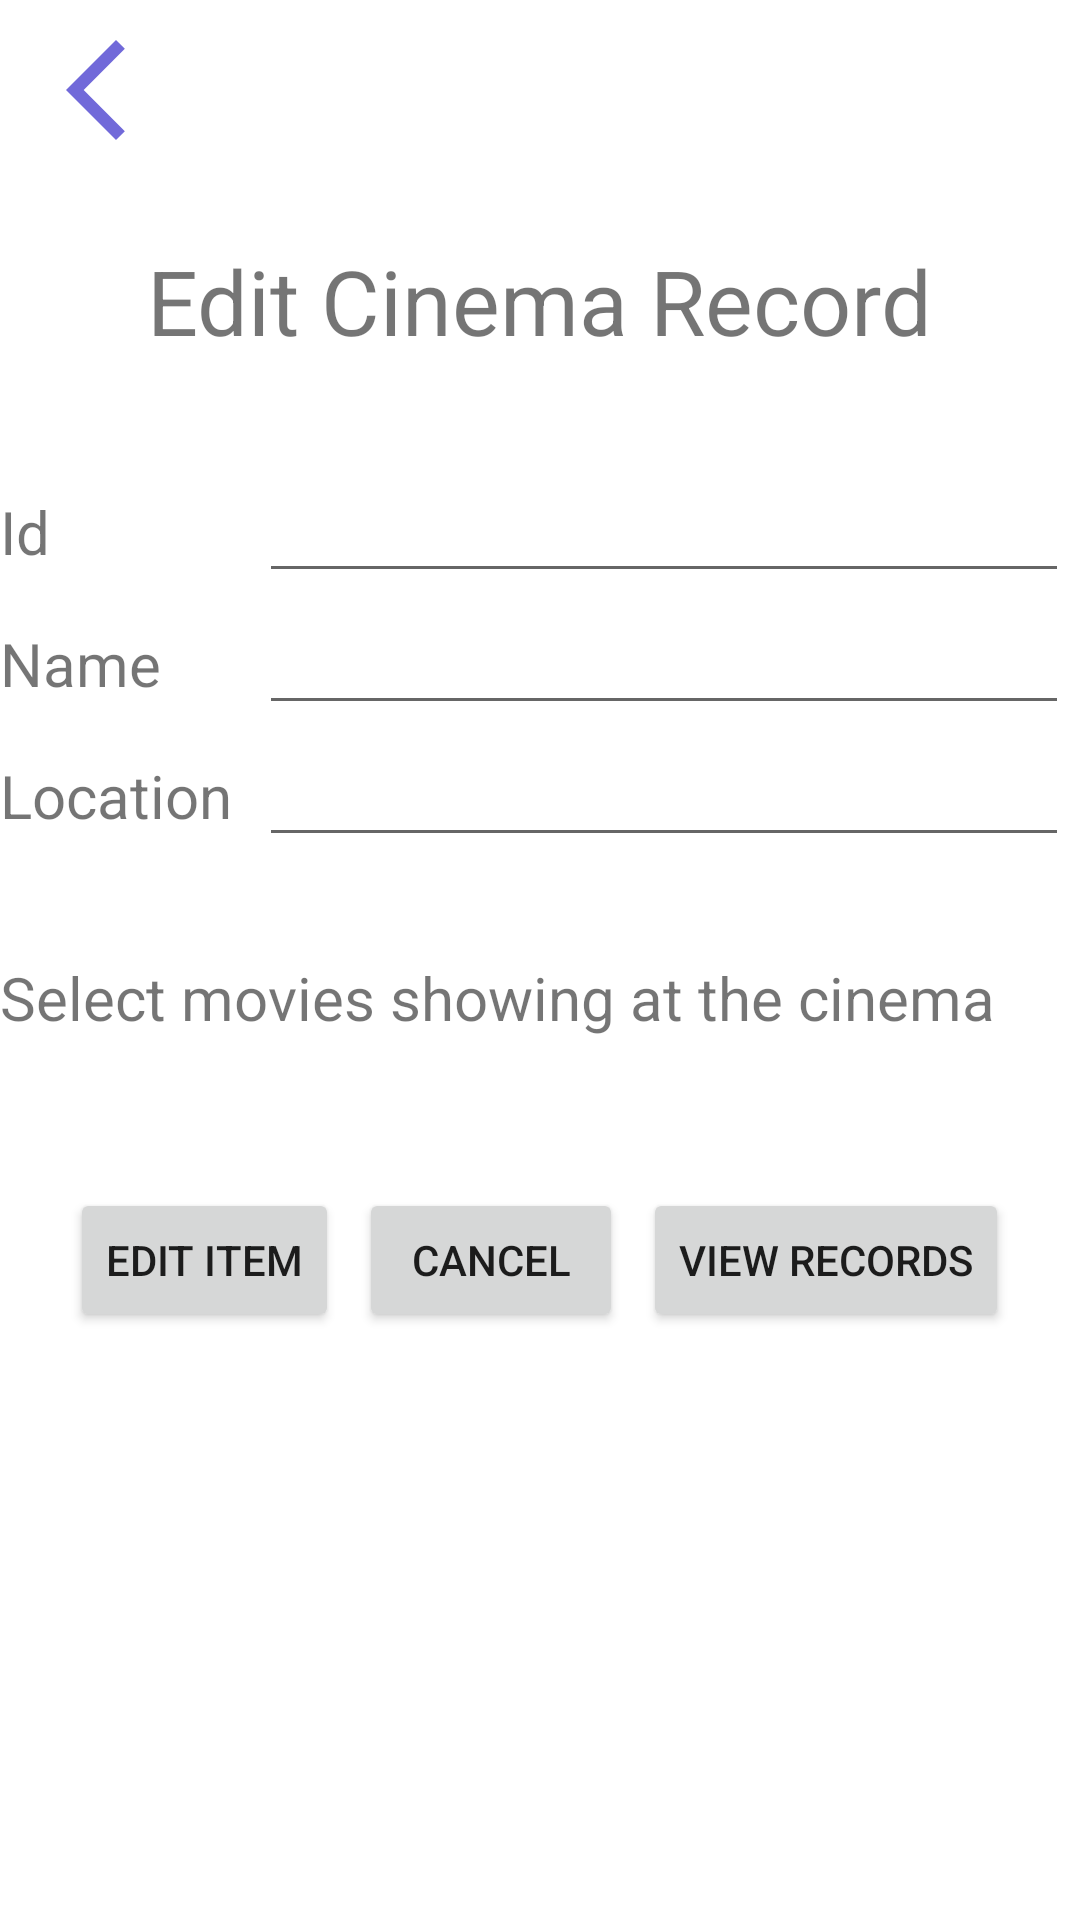

Icons on this 1080x1920 Android screen, each with the point to tap as point (x, y):
arrow back: point (95, 90)
